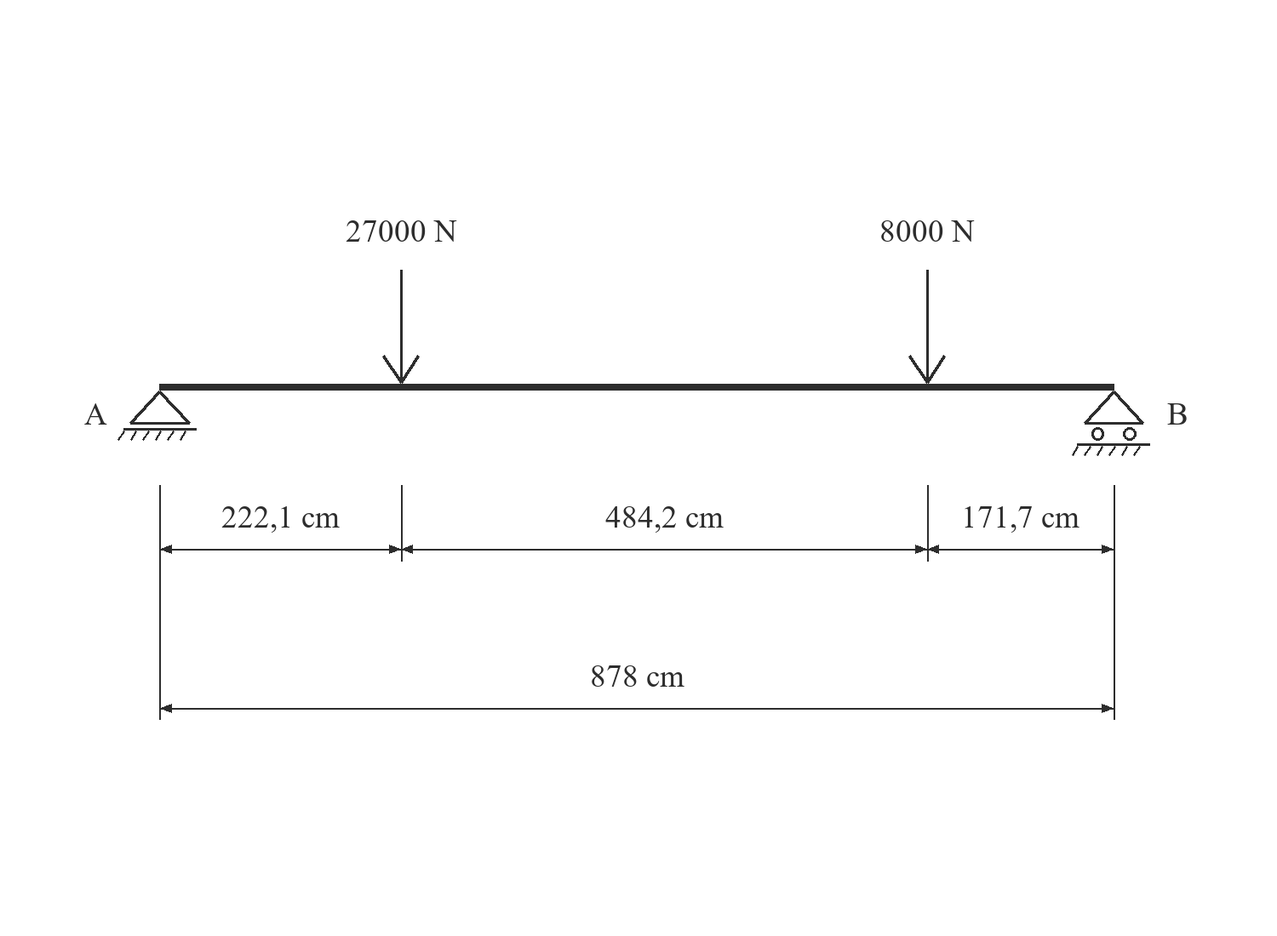pin_support: (117, 391, 197, 441)
point_load: (382, 270, 420, 384), (908, 270, 946, 384)
roller_support: (1072, 391, 1150, 456)
